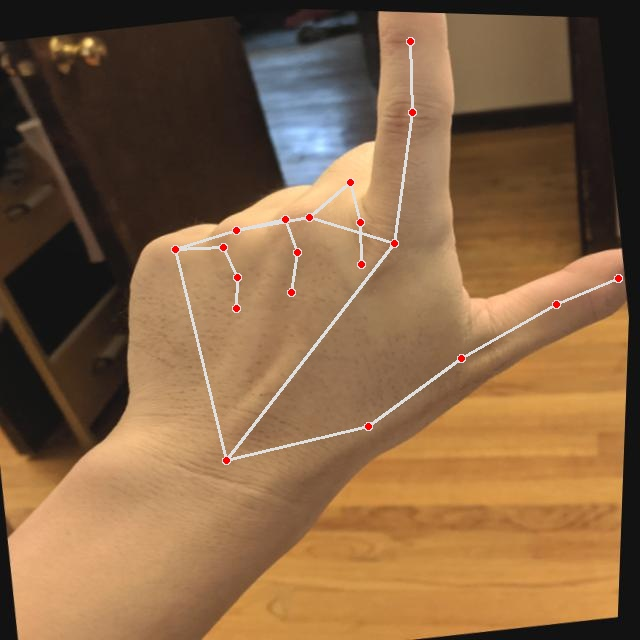L: (61, 2, 639, 517)
